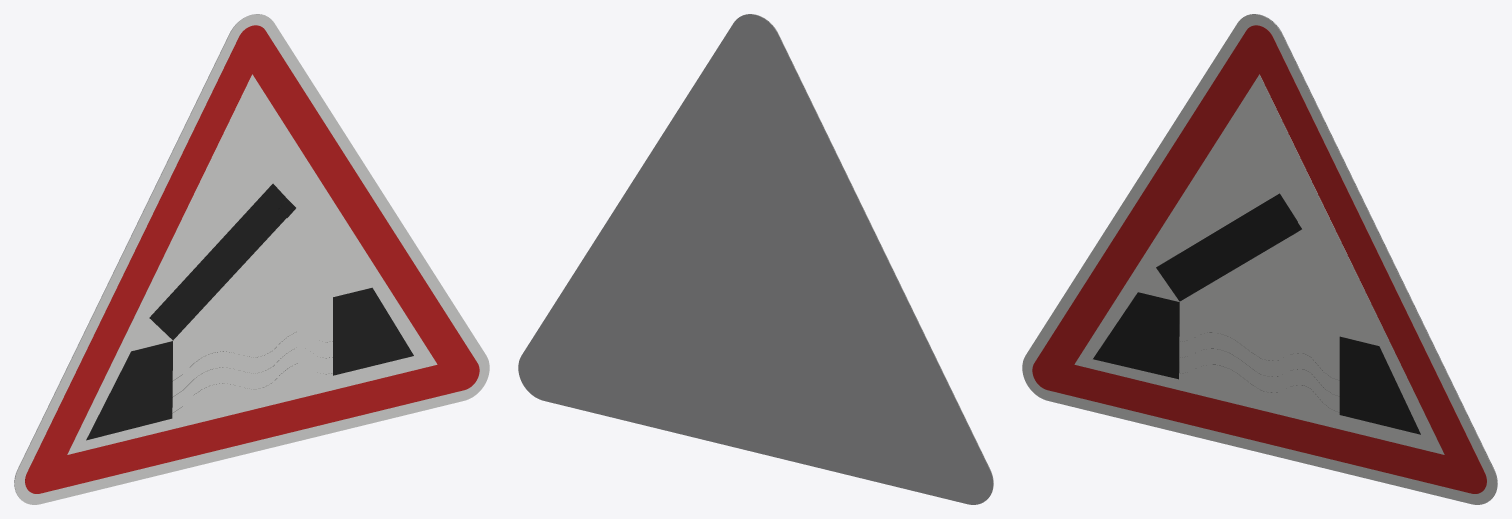
The picture shows the model from 3 angles, left to right: view 1: azimuth 30°, elevation 25°; view 2: azimuth 150°, elevation 25°; view 3: azimuth 330°, elevation 25°; orthographic projection.
Parts seen in each view (by area): view 1: A6_p02, A6_p01, A6_p00, A6_p04, A6_p03, A6_dos; view 2: A6_dos, A6_p00; view 3: A6_p02, A6_p01, A6_p00, A6_p04, A6_p03, A6_dos.
Boxes of the visible parts, x1,y1,x2,y2 form: A6_p02: [67, 74, 437, 454]; A6_p01: [25, 25, 479, 493]; A6_p00: [14, 14, 489, 504]; A6_p04: [86, 183, 286, 440]; A6_p03: [333, 287, 413, 375]; A6_dos: [14, 14, 265, 500]; A6_dos: [518, 14, 993, 504]; A6_p00: [742, 14, 993, 500]; A6_p02: [1074, 74, 1444, 454]; A6_p01: [1032, 25, 1486, 493]; A6_p00: [1022, 14, 1497, 504]; A6_p04: [1093, 193, 1297, 379]; A6_p03: [1339, 336, 1420, 434]; A6_dos: [1246, 14, 1497, 500].
Bounding box in the file's own units: 1 × 0.8803 × 0.0051.
